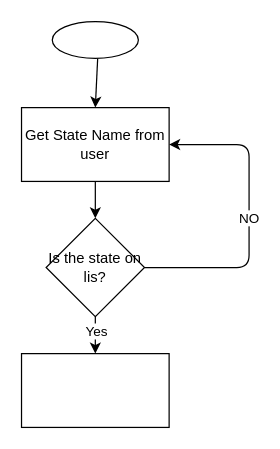
Image size: 280x449. Some labels were removed from this diagram. Each missing label, with the box of its shape:
Print on right position: (20, 352, 169, 427)
Start: (51, 20, 138, 58)
